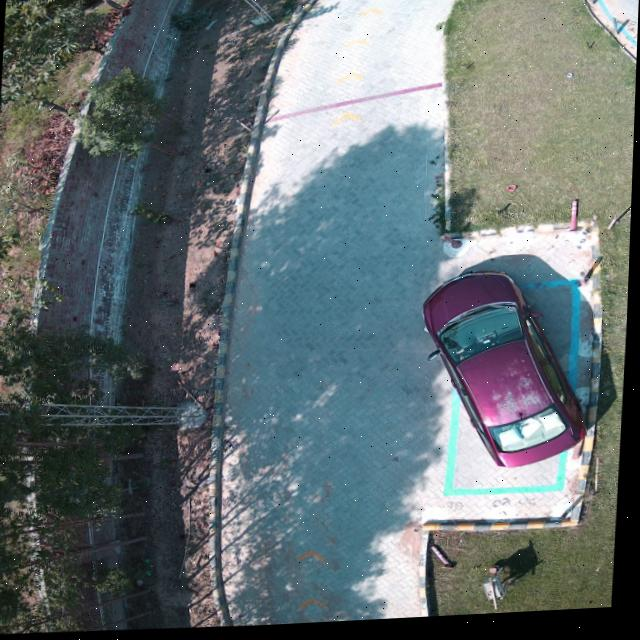car: (425, 274, 589, 471)
